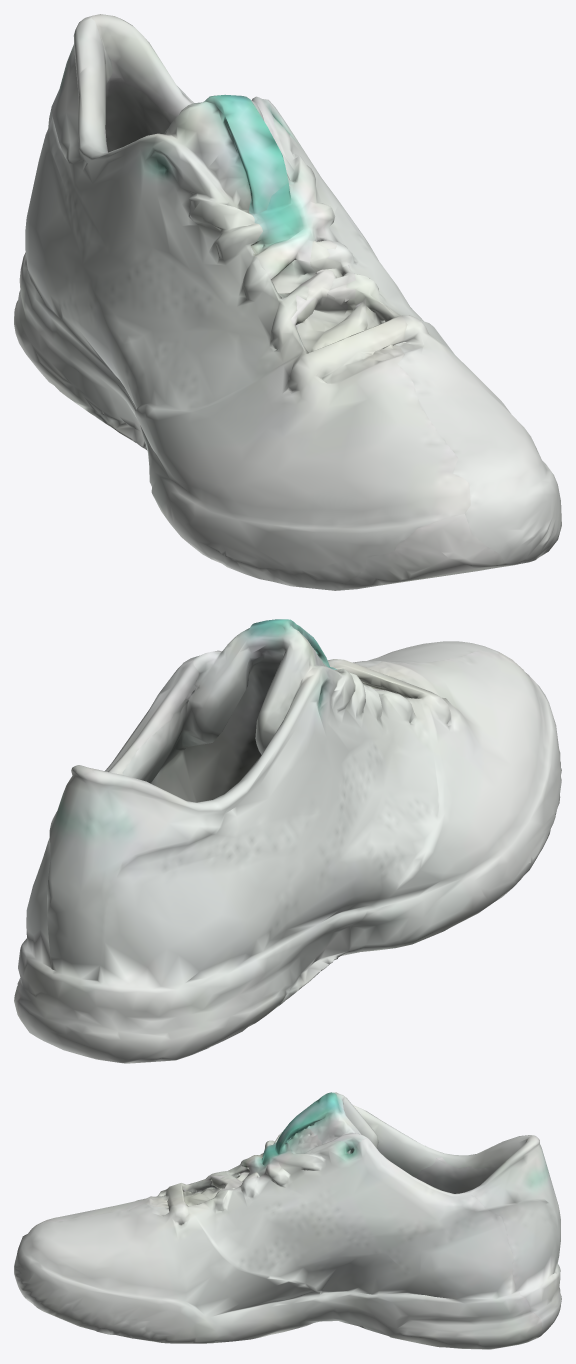
File: Reebok_TRIPLE_BREAK_LITE-high.glb
The picture shows the model from 3 angles, top to bottom: view 1: azimuth 30°, elevation 25°; view 2: azimuth 150°, elevation 25°; view 3: azimuth 270°, elevation 25°; orthographic projection. The views are drawn at different scales.
Parts seen in each view (by area): view 1: Reebok_TRIPLE_BREAK_LITE; view 2: Reebok_TRIPLE_BREAK_LITE; view 3: Reebok_TRIPLE_BREAK_LITE.
Part boxes in pixels (bbox=[...]): Reebok_TRIPLE_BREAK_LITE: bbox=[14, 14, 561, 590]; Reebok_TRIPLE_BREAK_LITE: bbox=[14, 619, 561, 1063]; Reebok_TRIPLE_BREAK_LITE: bbox=[14, 1092, 561, 1349].
Size of the model in its own units: 0.1 by 0.1177 by 0.2659.
1 material, 1 textured.
